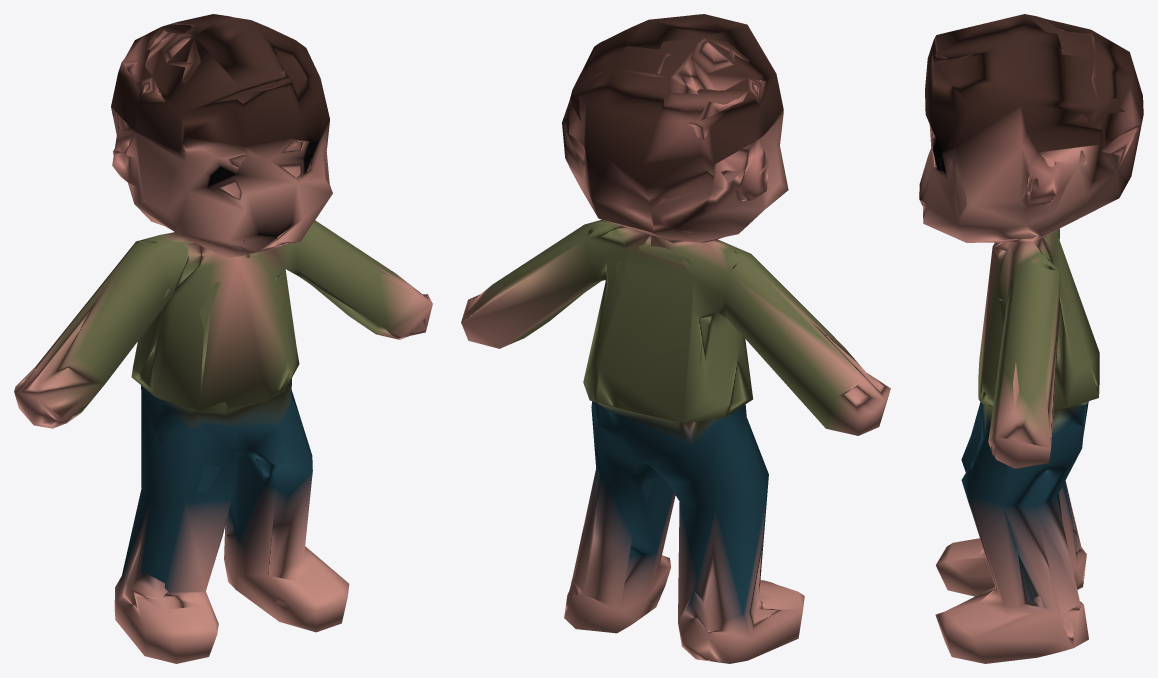
Rendered from gen3d-ragdoll-lod1.glb.
3 views of the same model, side by side, from view 1: azimuth 30°, elevation 25°; view 2: azimuth 150°, elevation 25°; view 3: azimuth 270°, elevation 25° (orthographic). The views are drawn at different scales.
Parts seen in each view (by area): view 1: part_0; view 2: part_0; view 3: part_0.
Boxes of the visible parts, x1,y1,x2,y2 form: part_0: (14, 14, 432, 663); part_0: (461, 14, 890, 663); part_0: (919, 14, 1143, 663).
Bounding box in the file's own units: 0.7191 × 0.9968 × 0.3417.
